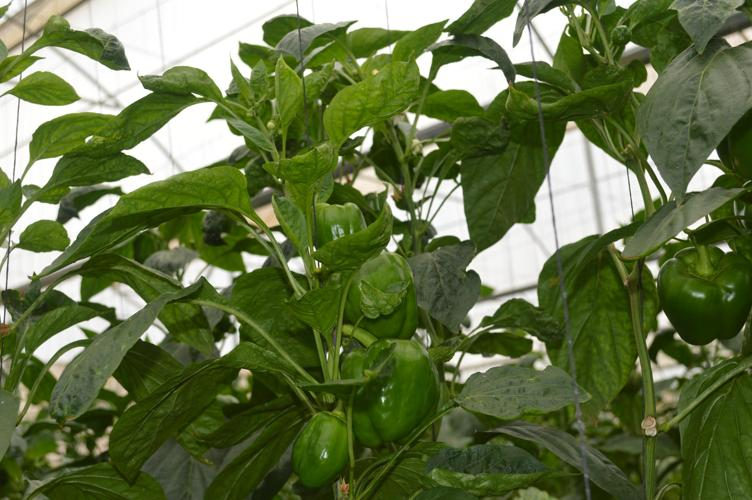BellPepper: (337, 341, 440, 445), (648, 247, 747, 341), (344, 254, 410, 337), (288, 411, 353, 487), (310, 207, 363, 249)
